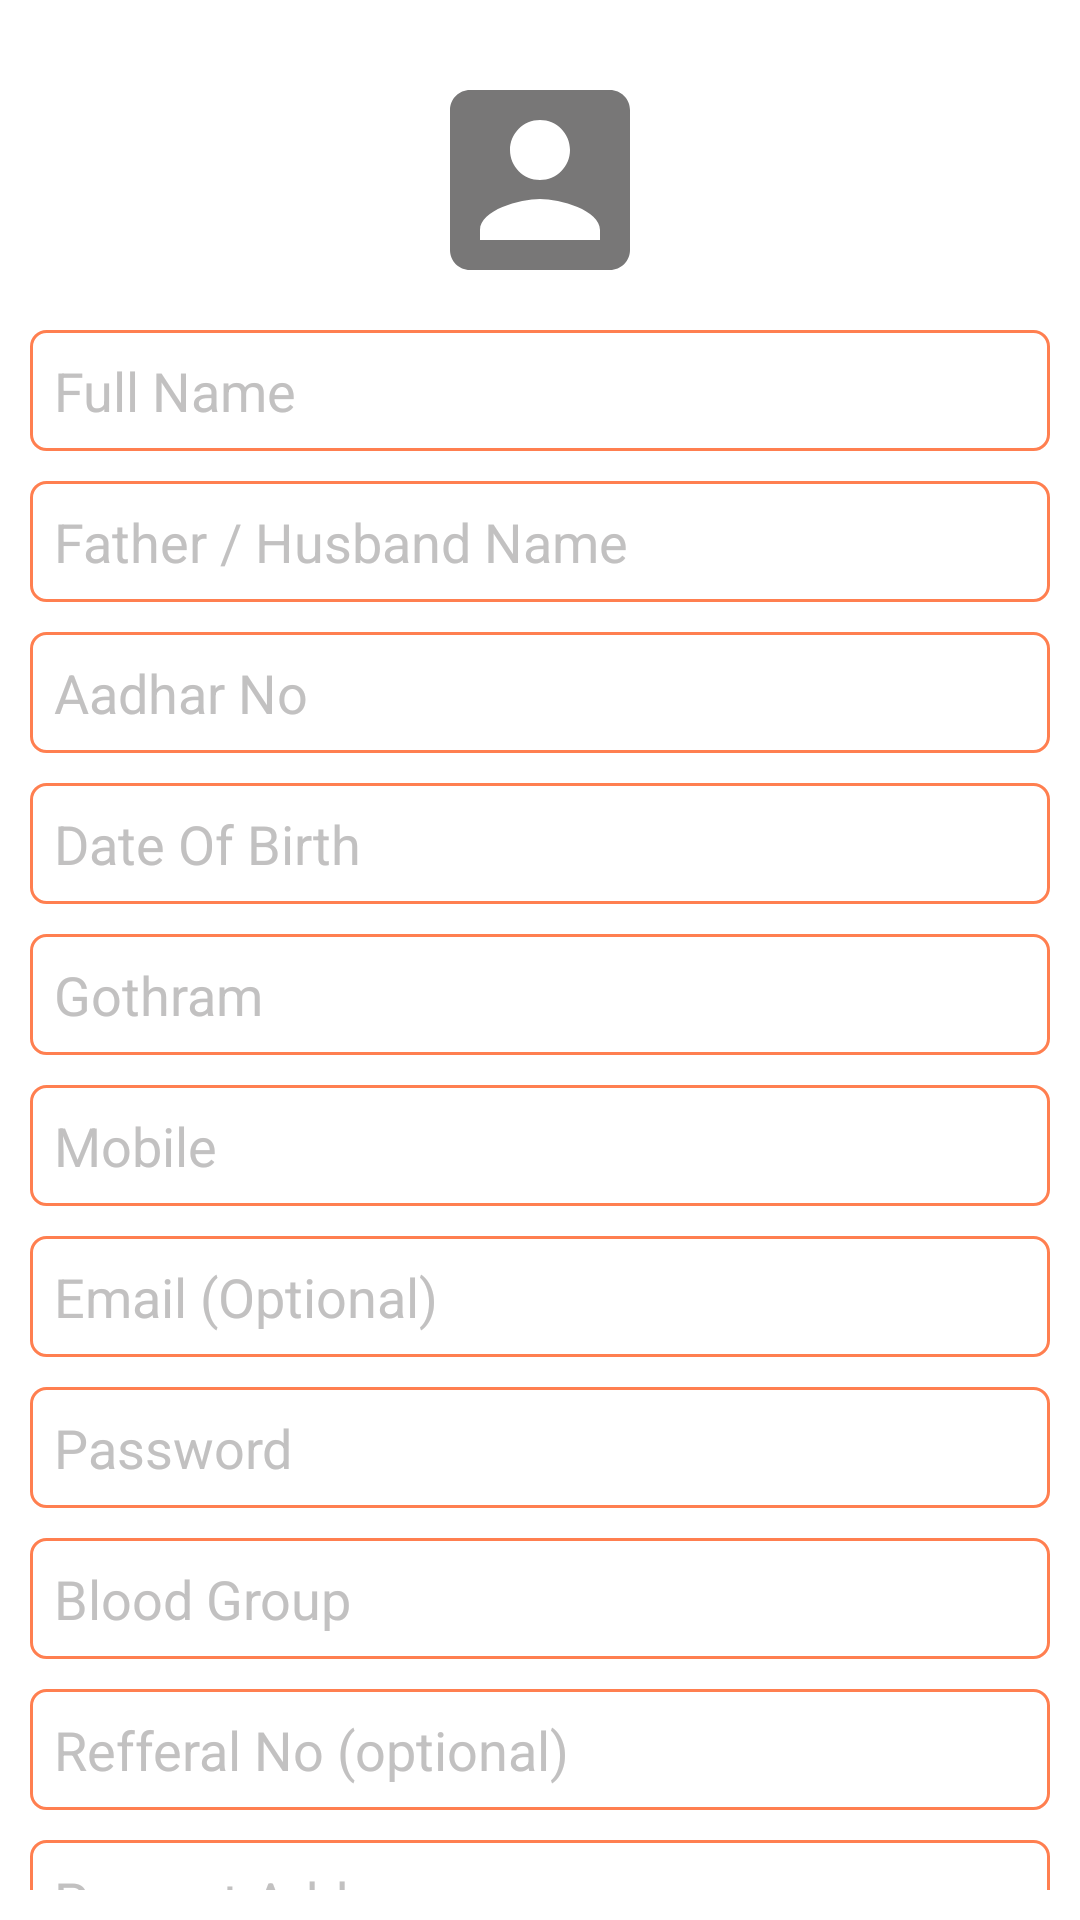

Where to tap for icons on this 1080w x 1920h app screen, as (x,y):
account squre: (540,180)
